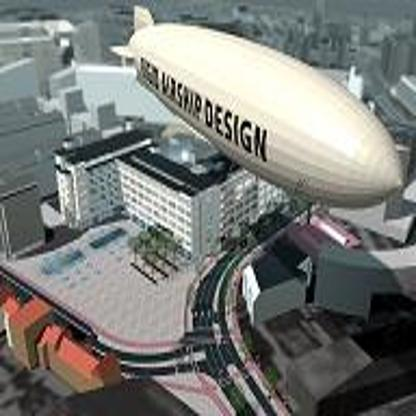Airship: (117, 4, 406, 212)
